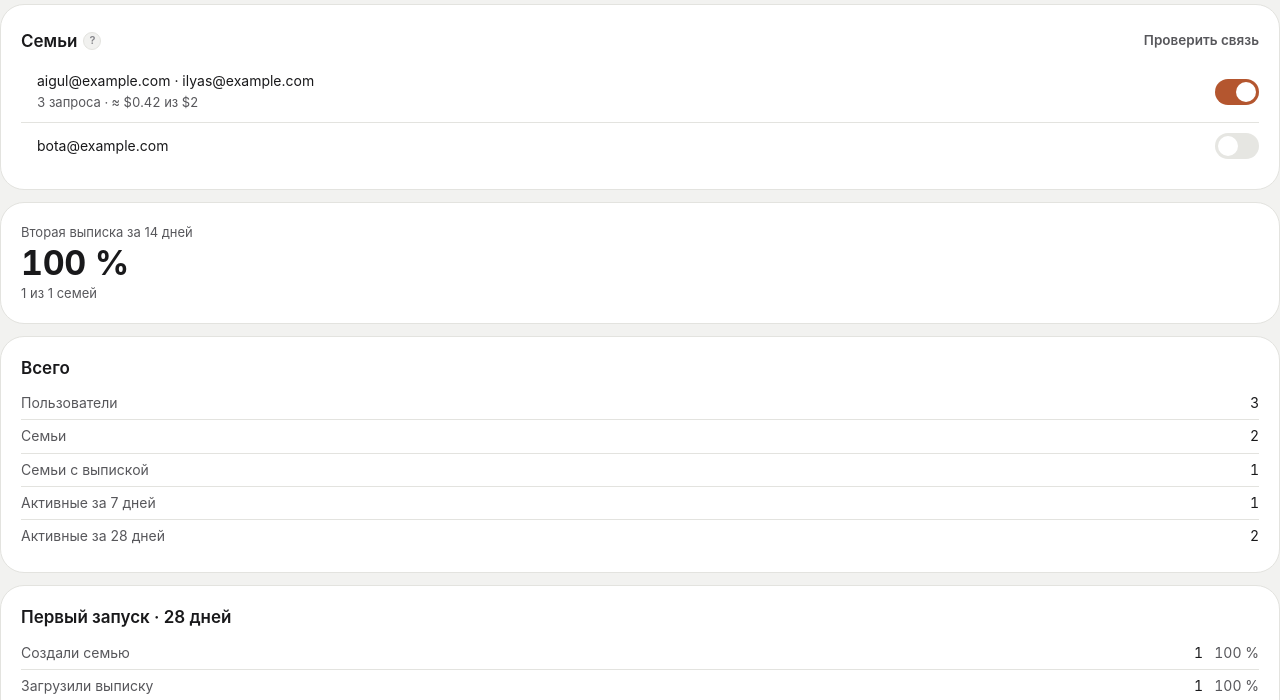
Test: AI-04: админка — семьи и ИИ › «Проверить связь» без сети — «Нет связи», в подсказке «Сервер не ответил.»
Click the button "Проверить связь".
click(1201, 41)  # box [1132,25,1271,57]
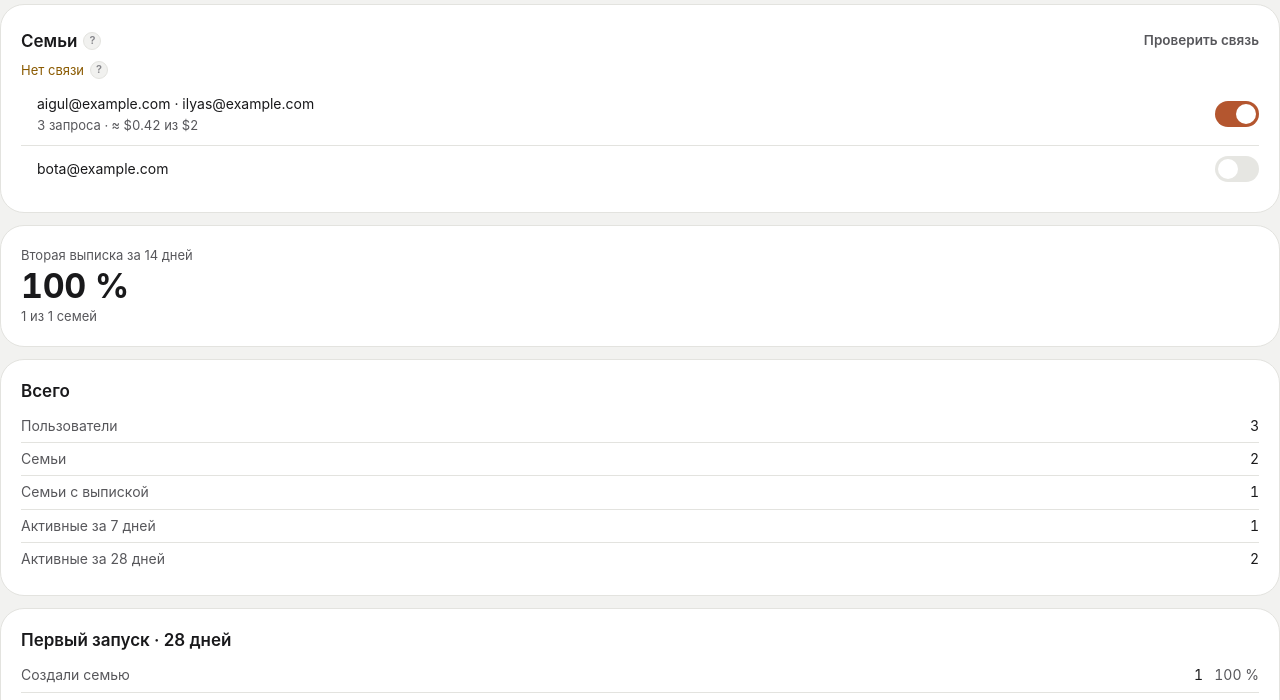
expect the element showing "Нет связи ?" is shown: met, box [21,61,108,79]
Click the button named "Почему нет связи".
click(99, 70)  # box [90,61,108,79]
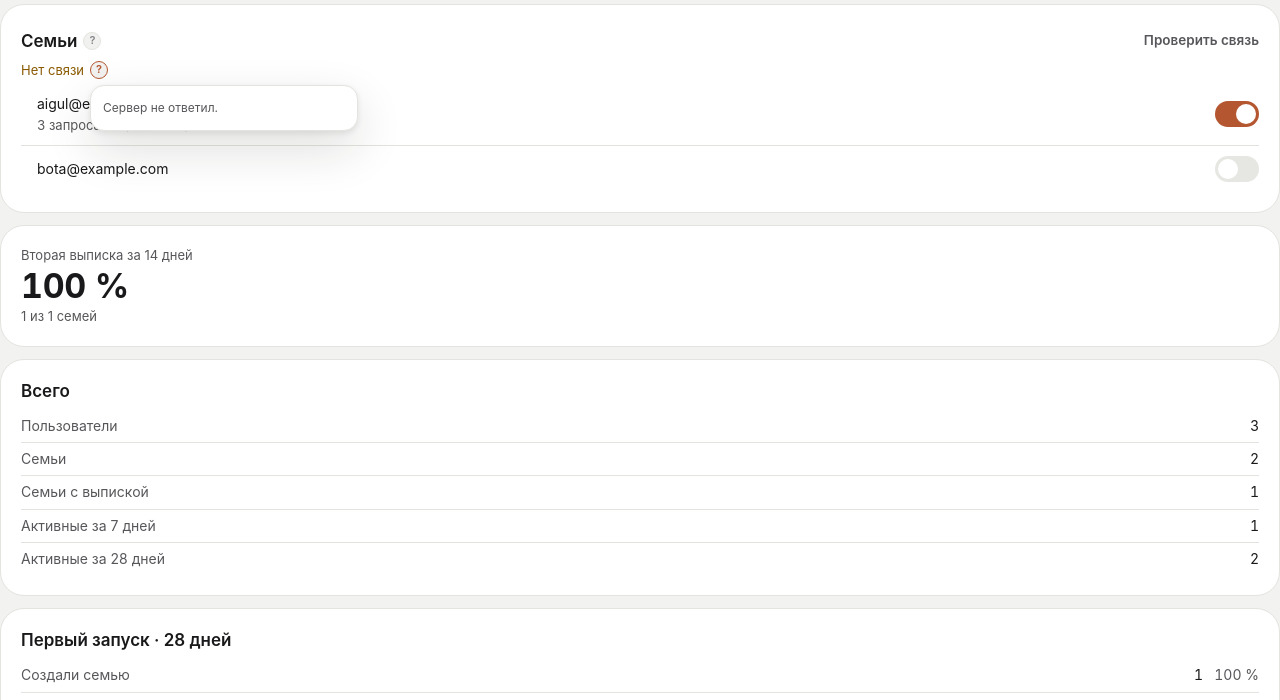
expect the text "Сервер не ответил." is shown: met, box [103,100,218,115]
